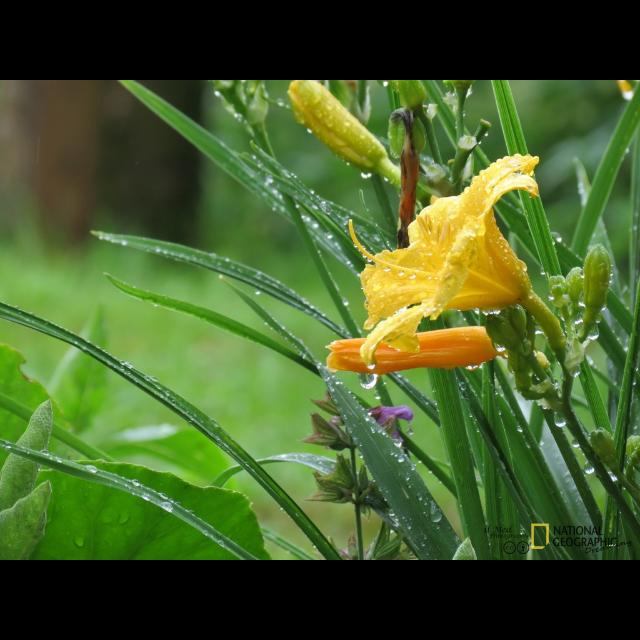Flower: (345, 154, 541, 368)
